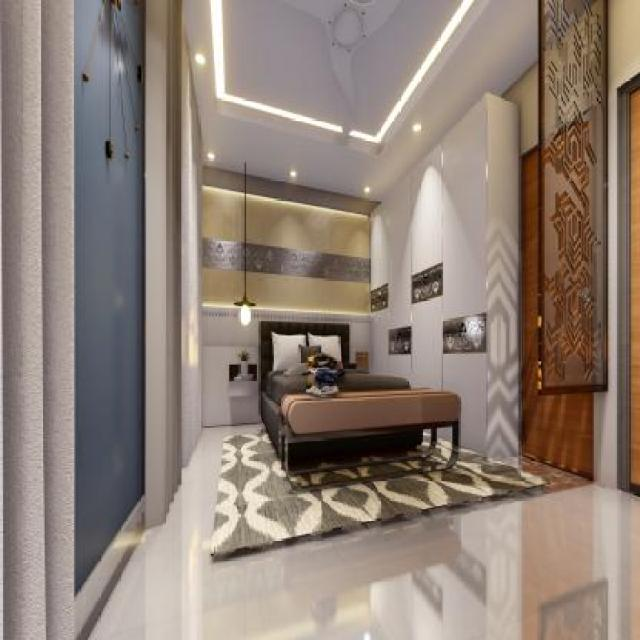floor: (74, 420, 640, 640)
